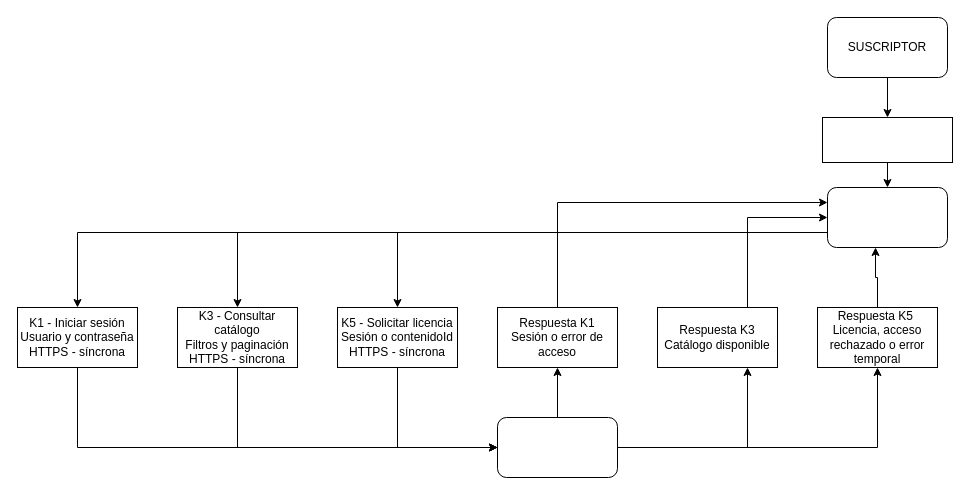
Image size: 970x495. Some labels were removed from this diagram. The shapes that lost their labels are listed below. From the top down, each one's centre as x and y in pixels, then its label:
the point at 887,139: reproductor Cliente web, móvil o TV
the point at 887,217: REPRODUCTOR CLIENTE WEB. MÓVIL O TV
the point at 557,447: ENTRADA WEB Spring Boot - HTTPS
